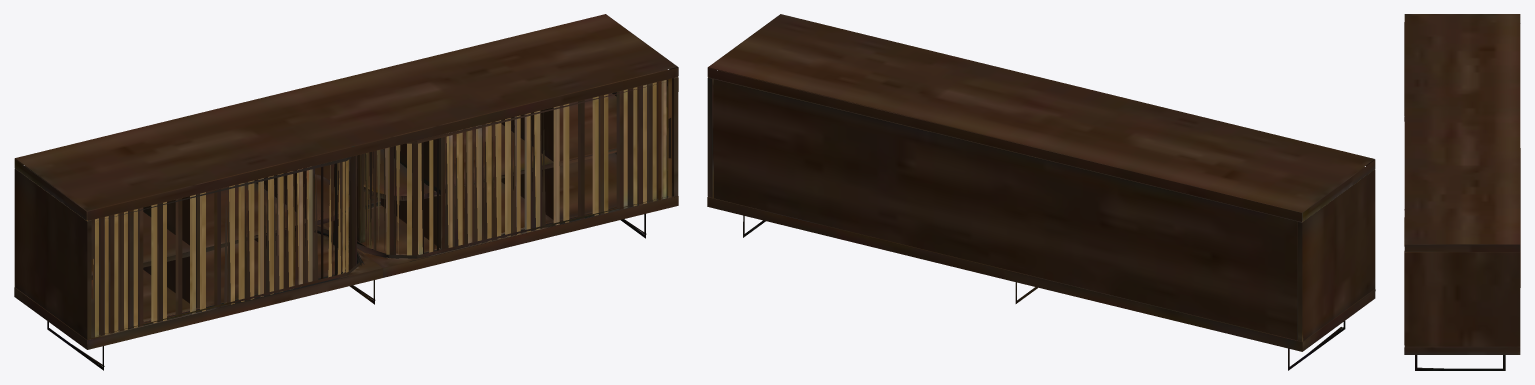
File: sideboard-lightweight-2d1d10963e.glb
The picture shows the model from 3 angles, left to right: view 1: azimuth 30°, elevation 25°; view 2: azimuth 150°, elevation 25°; view 3: azimuth 270°, elevation 25°; orthographic projection. The views are drawn at different scales.
Parts seen in each view (by area): view 1: modern_wooden_cabinet_body; view 2: modern_wooden_cabinet_body; view 3: modern_wooden_cabinet_body.
Part boxes in pixels (left/top/right/bottom): modern_wooden_cabinet_body: left=14, top=14, right=678, bottom=370; modern_wooden_cabinet_body: left=707, top=14, right=1375, bottom=370; modern_wooden_cabinet_body: left=1404, top=14, right=1520, bottom=370.
Bounding box in the file's own units: 2.44 × 0.6706 × 0.5204.
Materials: 1 (1 with a texture image).
